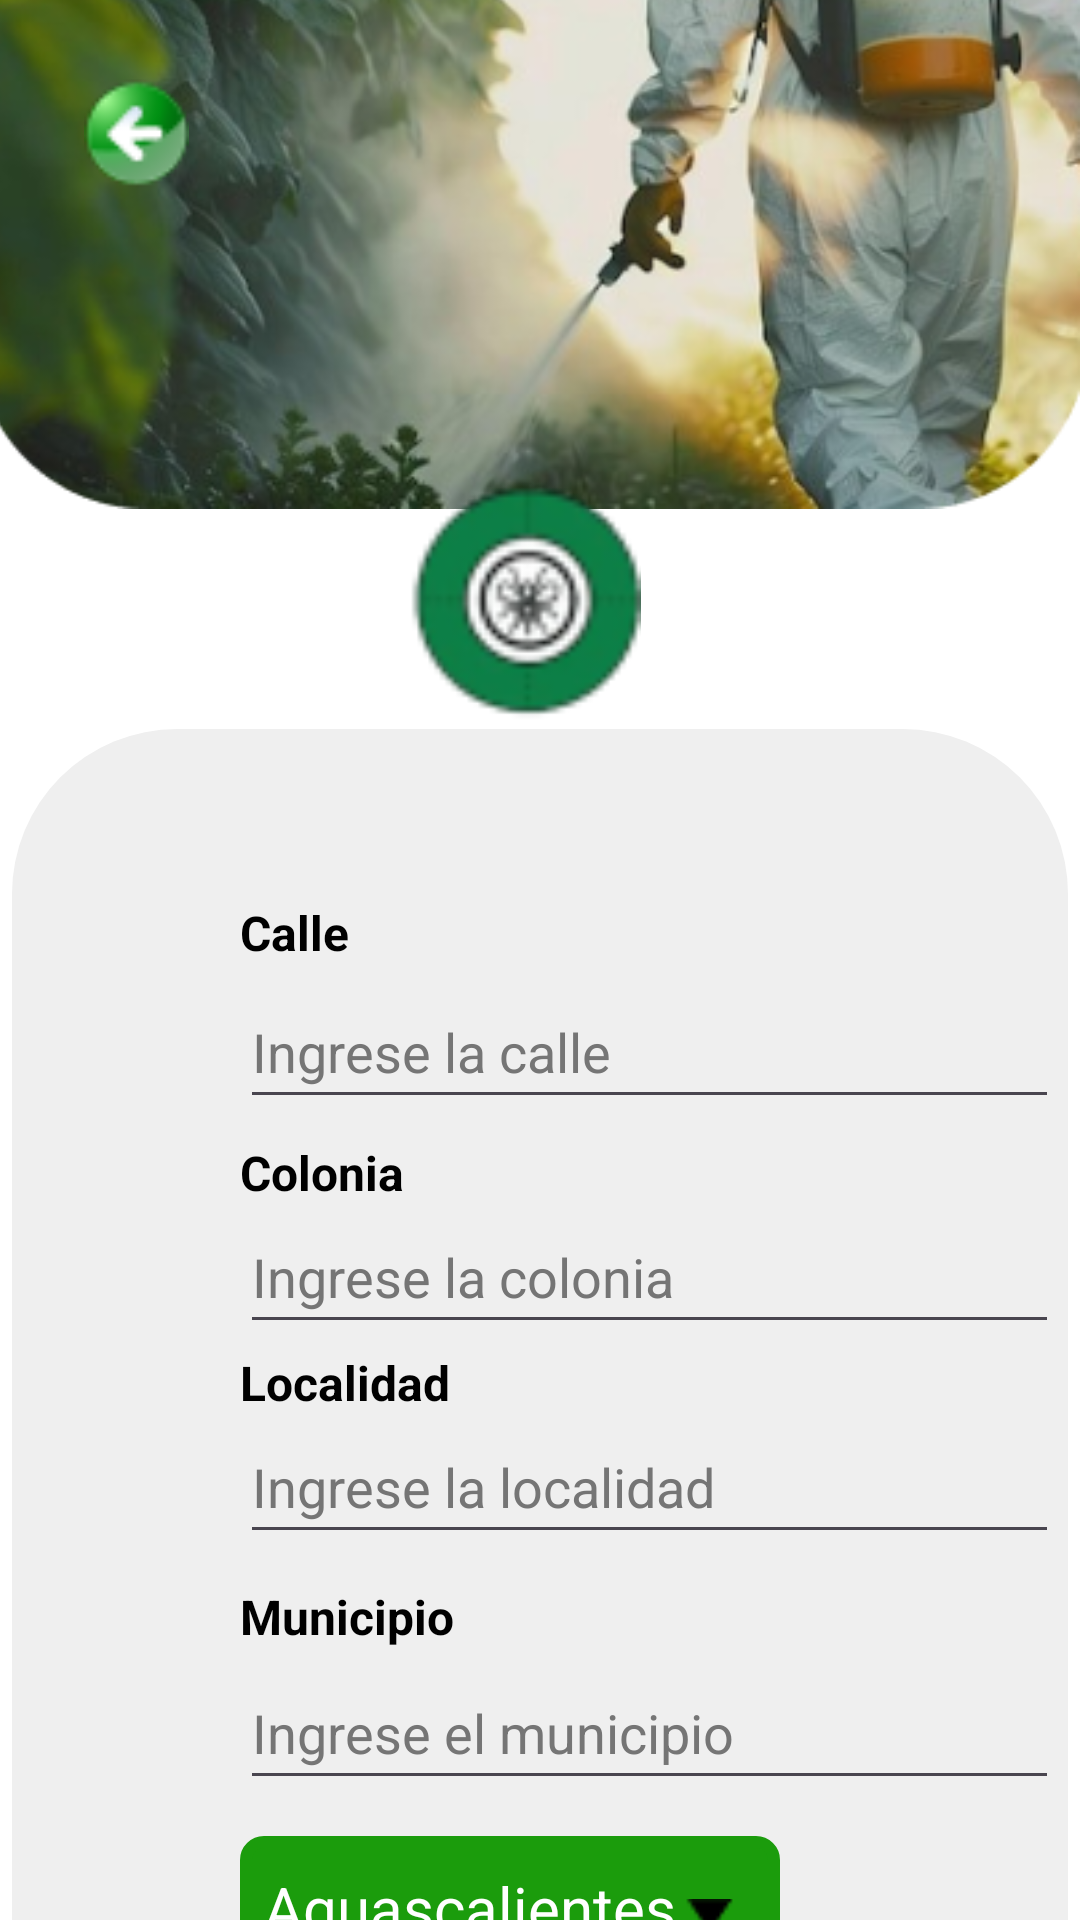

Named icons in this screenshot (1080 x 1920) and their bounding boxes, [x1=x1, y1=y1, x2=x2, y2=y2]:
Ícono para atrás: [x1=86, y1=72, x2=189, y2=195]
